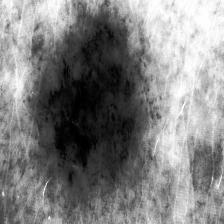Benign Marking or Mole: (37, 17, 142, 175)
